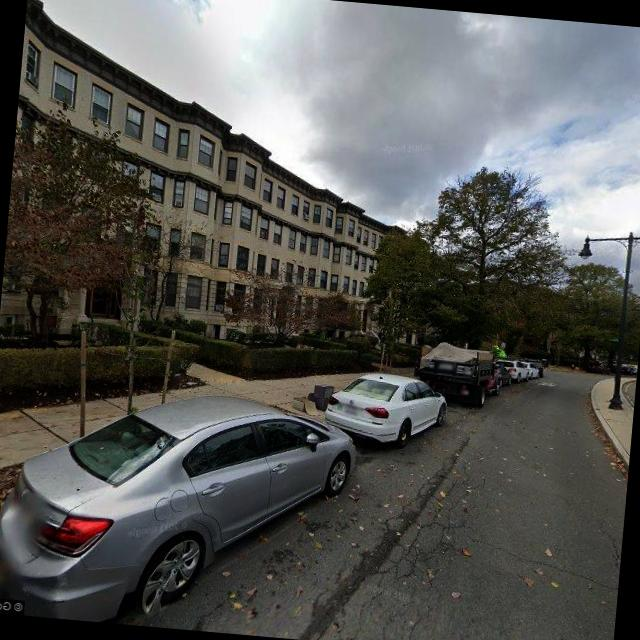crack: (330, 474, 483, 640), (471, 533, 622, 598)
